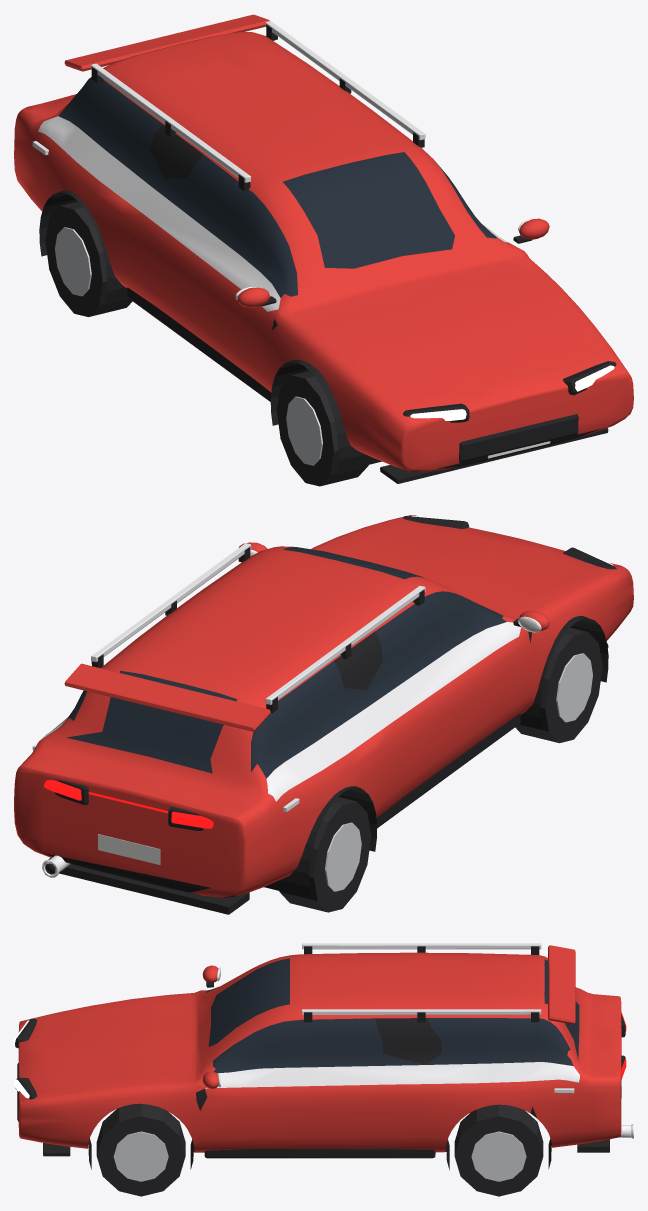
File: nordwind_lod.glb
3 views of the same model, one above another, from view 1: azimuth 30°, elevation 25°; view 2: azimuth 150°, elevation 25°; view 3: azimuth 270°, elevation 25° (orthographic). The views are drawn at different scales.
Parts seen in each view (by area): view 1: body, wheel_fr, wheel_rr; view 2: body, wheel_rr, wheel_fr; view 3: body, wheel_fl, wheel_rl.
Boxes of the visible parts, x1,y1,x2,y2 form: body: (14, 14, 633, 483); wheel_fr: (276, 371, 368, 486); wheel_rr: (45, 201, 132, 316); body: (14, 515, 633, 914); wheel_rr: (279, 797, 371, 912); wheel_fr: (515, 627, 602, 743); body: (14, 943, 633, 1170); wheel_fl: (96, 1103, 185, 1196); wheel_rl: (454, 1104, 543, 1196).
Size of the model in its own units: 2.18 by 1.47 by 4.89.
